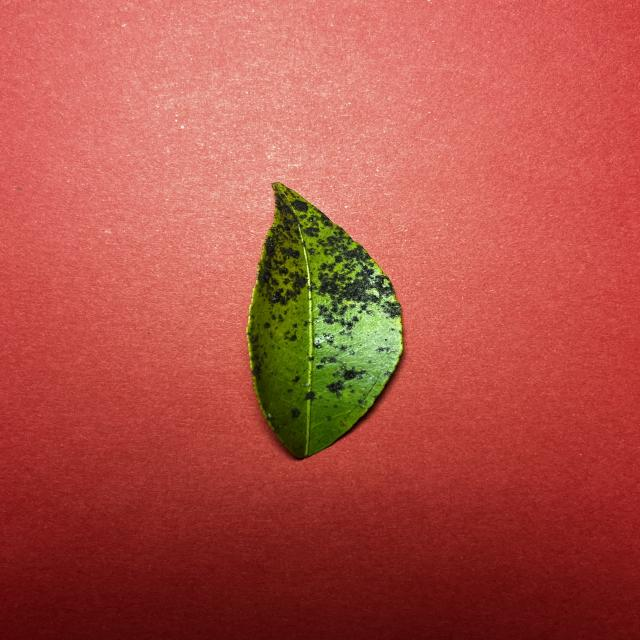sooty_mold: (247, 183, 403, 458)
